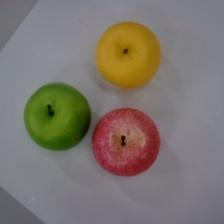green: (24, 82, 92, 151)
red: (92, 108, 160, 177)
yellow: (96, 22, 160, 88)
